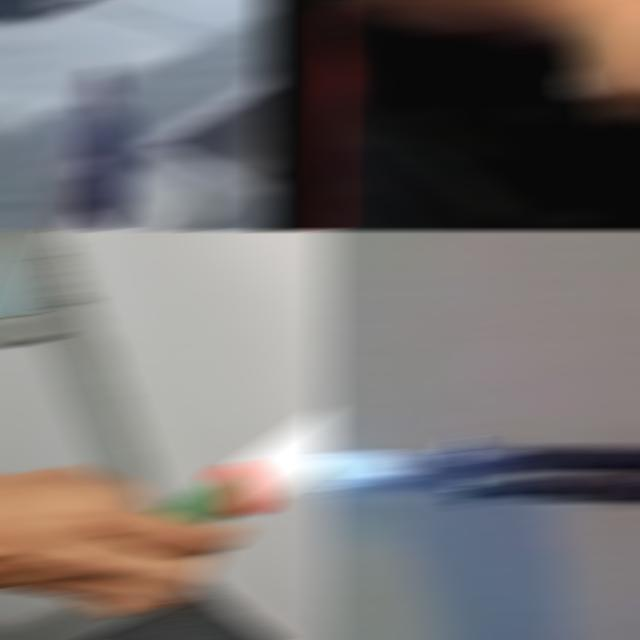Knife: (154, 406, 334, 523)
Knife_Handle: (0, 256, 334, 640), (318, 356, 640, 640), (564, 0, 640, 125)
